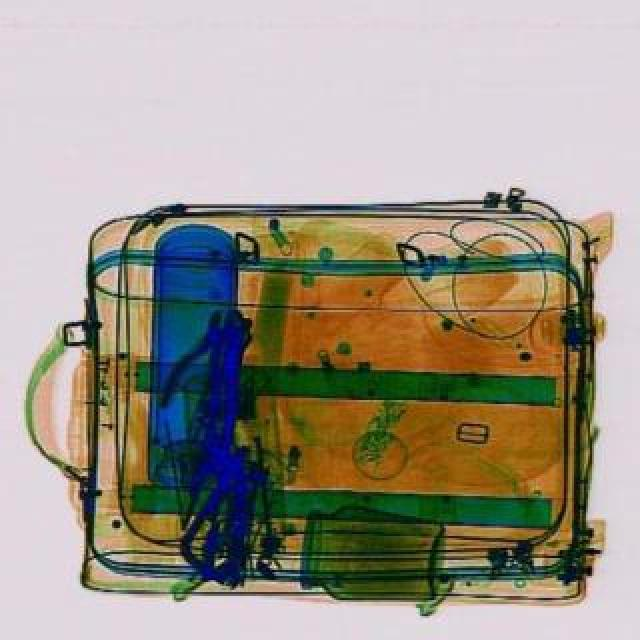wrench: (152, 302, 252, 426)
